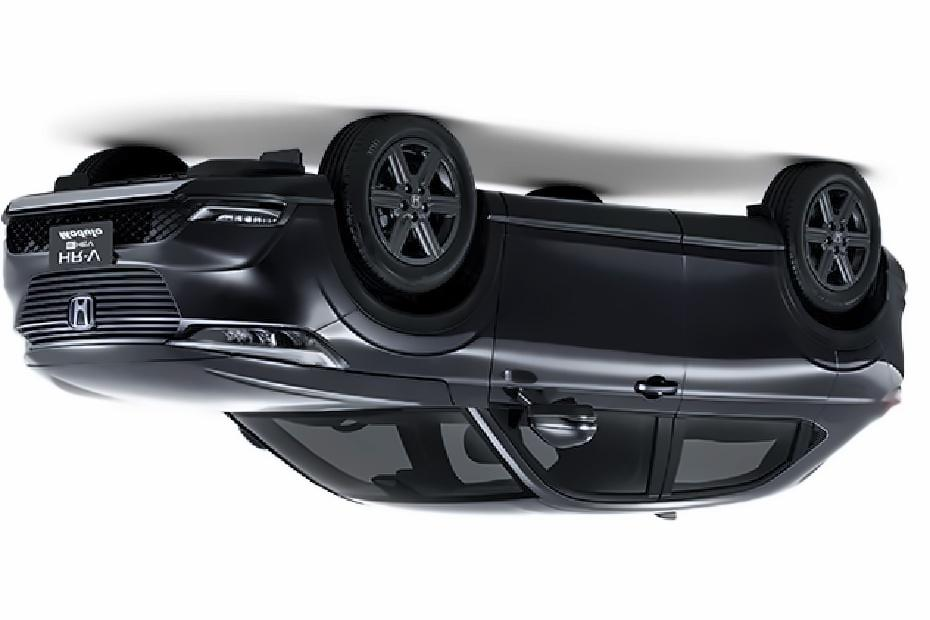Car hood: (21, 351, 457, 416)
Driver-s door - -F-R-: (476, 185, 685, 512)
Fender - -F-R-: (304, 177, 508, 406)
Fender - -R-R-: (768, 257, 897, 455)
Front bumper: (0, 166, 368, 367)
Headlight - -R-: (161, 320, 350, 373)
Passenger-s door - -R-R-: (659, 188, 845, 528)
Side bumper - -R-: (477, 176, 789, 297)
Side mirror - -R-: (505, 388, 595, 453)
